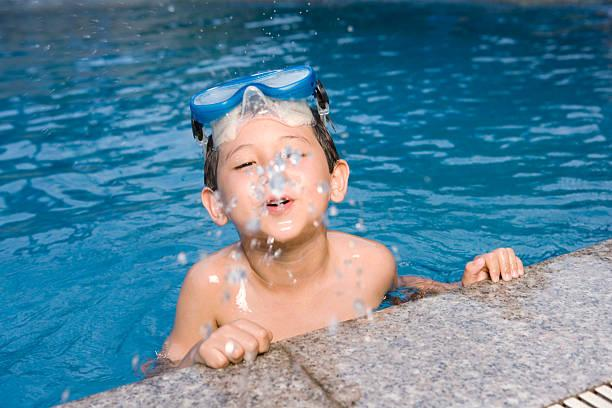Spitting: (134, 53, 385, 270)
